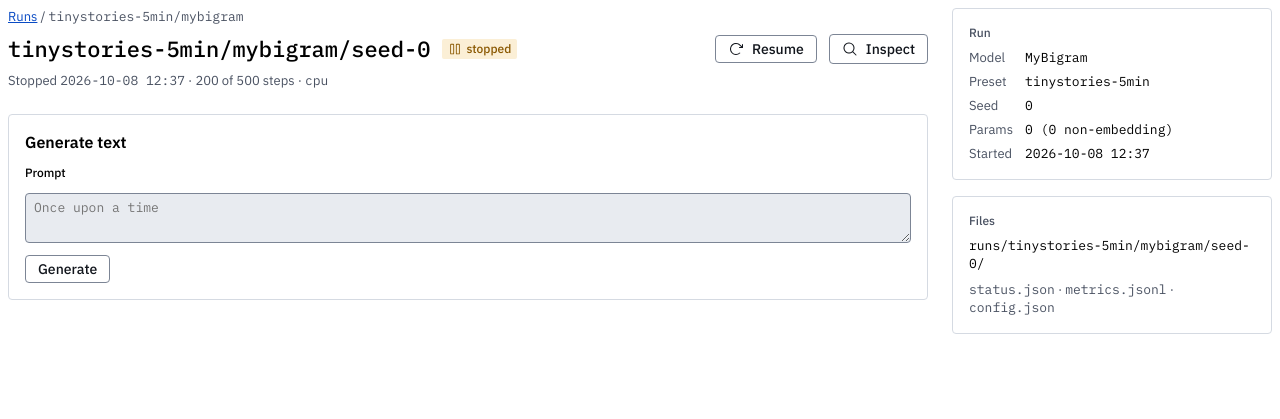
Test: Run actions › resumes a stopped run, and shows the library's refusal word for word
The width and height of the screenshot is (1280, 419).
Click the button "Resume". click: (766, 49)
box: [715, 35, 817, 63]
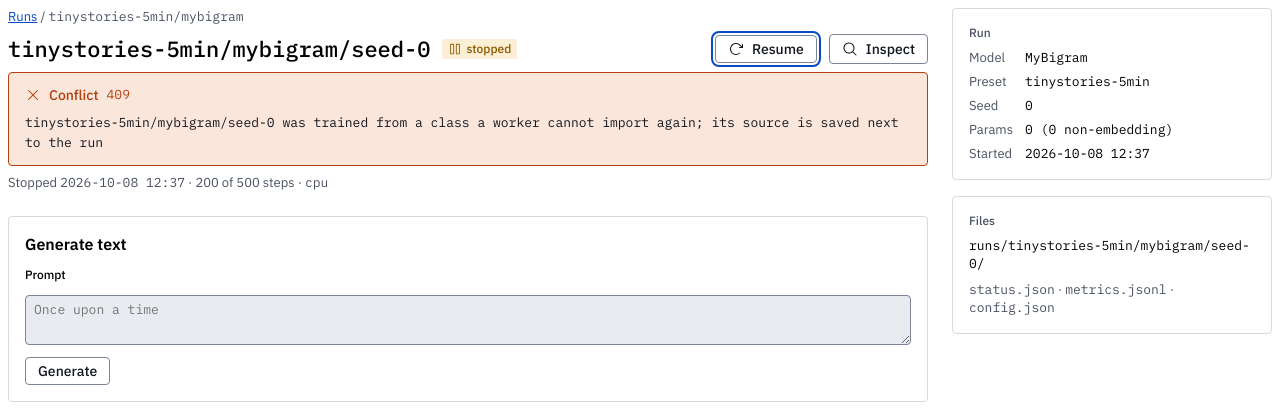
Check: the message shows "a worker cannot import again", box [25, 114, 906, 151]
